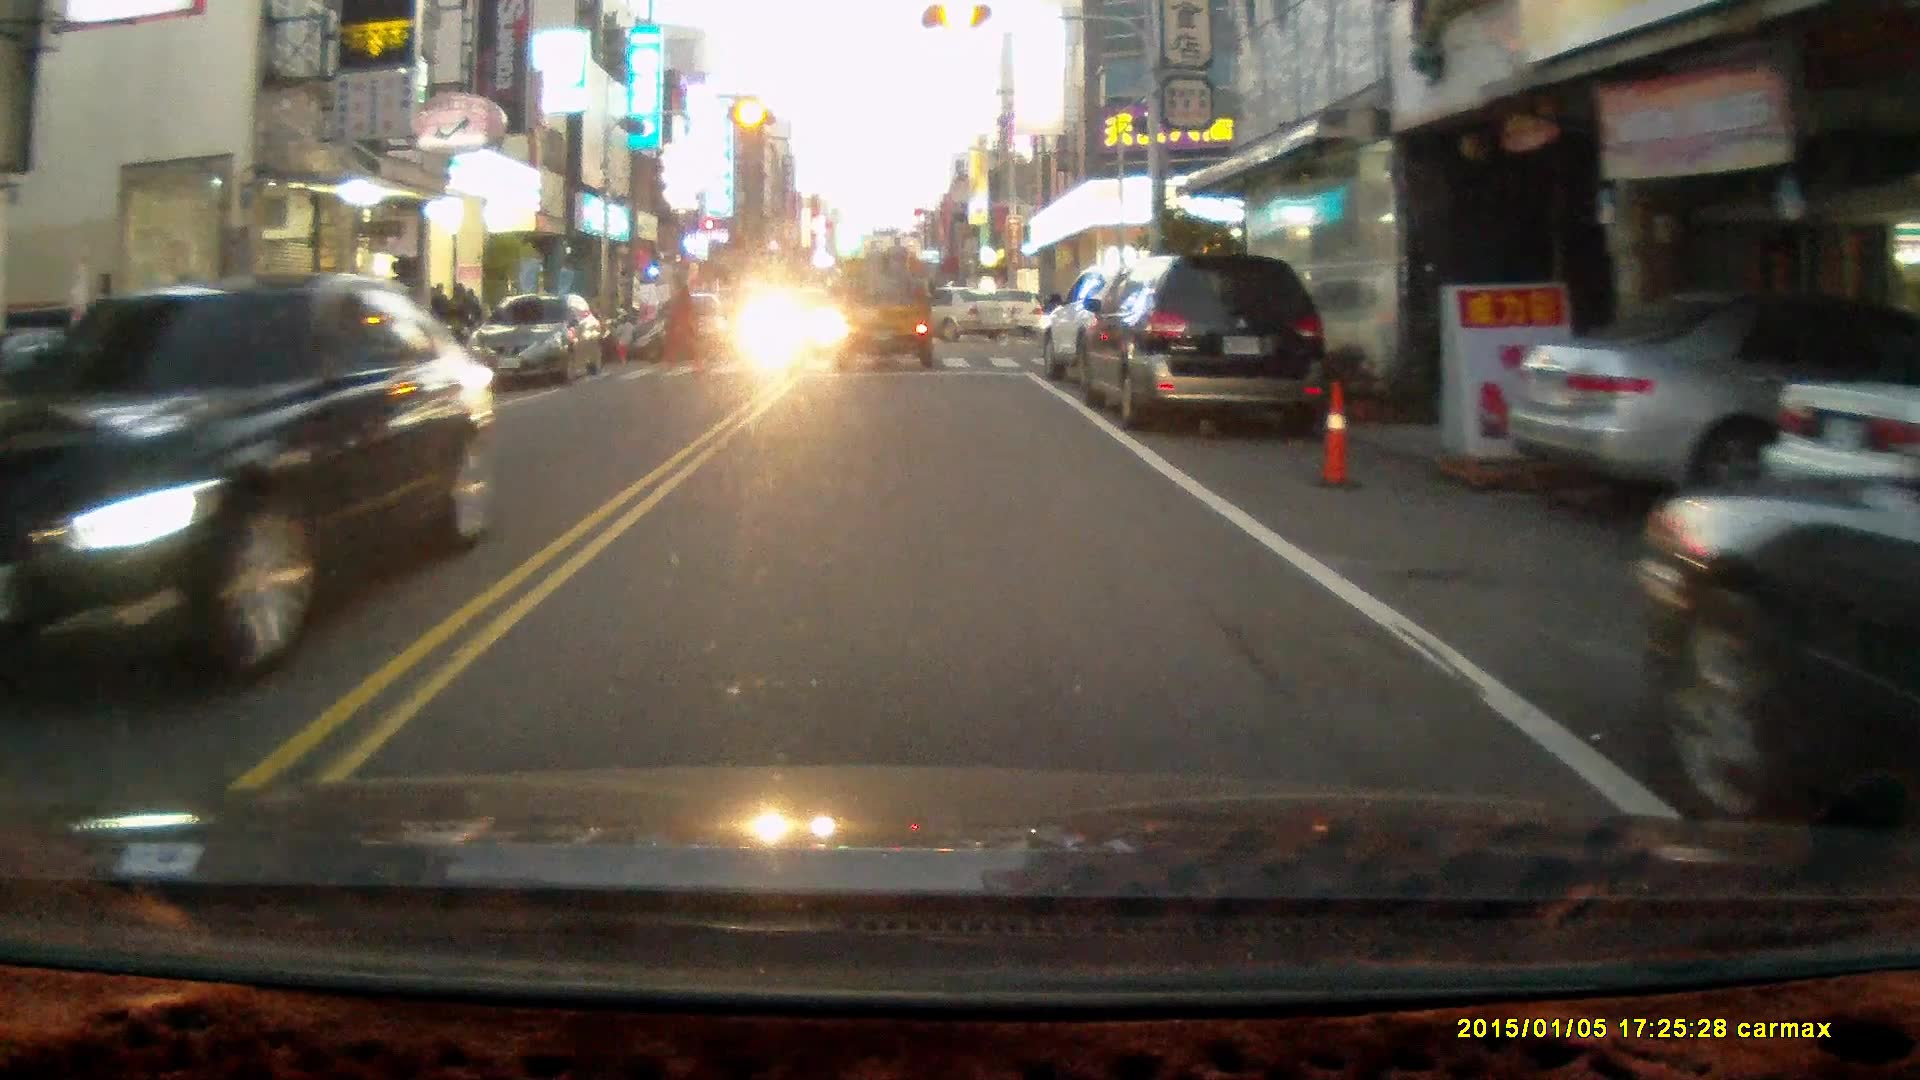pedestrian: (663, 276, 699, 375), (611, 313, 636, 365)
vehicle: (9, 274, 508, 712), (1631, 400, 1920, 843), (1503, 291, 1920, 525), (1076, 249, 1330, 436), (1763, 379, 1920, 552), (1041, 258, 1215, 405), (829, 236, 939, 375), (488, 296, 603, 390), (863, 286, 1011, 344), (648, 298, 739, 361)
